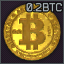Physical bitcoin: (0, 0, 64, 64)
